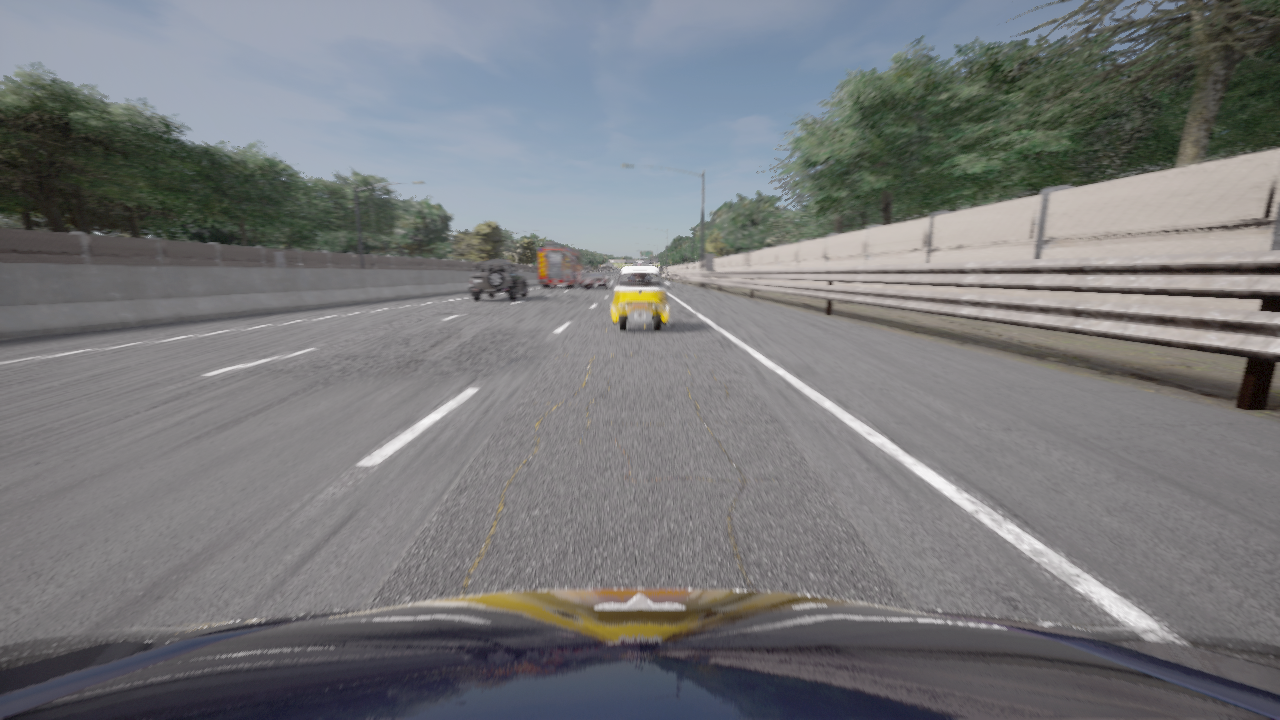cyclist: (0, 588, 1279, 719), (609, 266, 670, 331), (469, 260, 527, 299), (538, 242, 584, 287), (583, 273, 609, 288)
